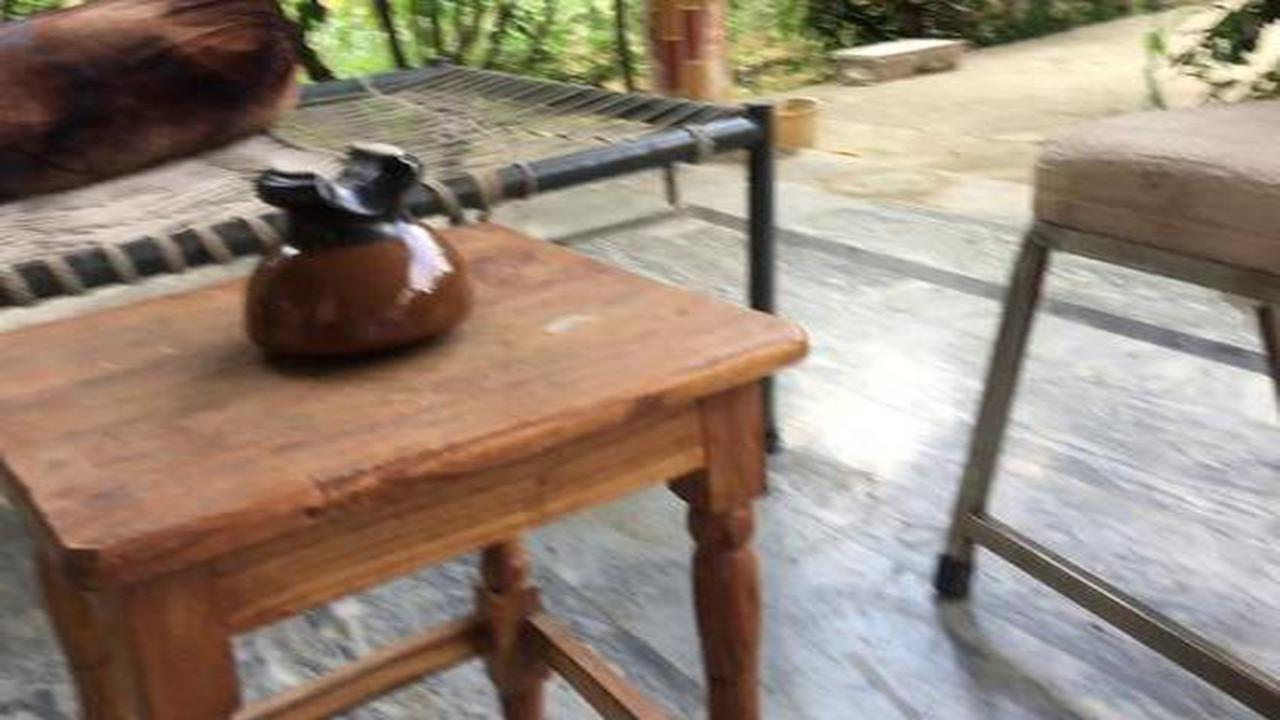insulator_pin: (210, 129, 490, 373)
